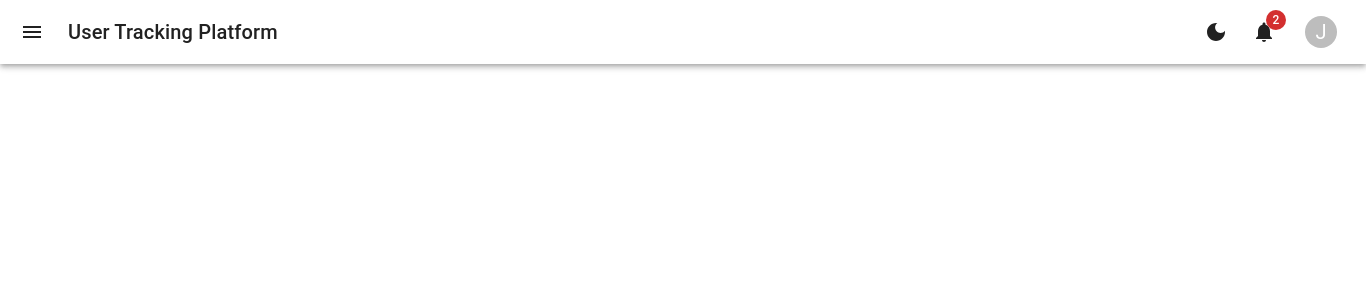
Header › profile menu › should open profile menu when clicking avatar
This screenshot has width=1366, height=297.
Click the button "J" at (1321, 32), box top-left (1300, 11), bottom-right (1342, 53)
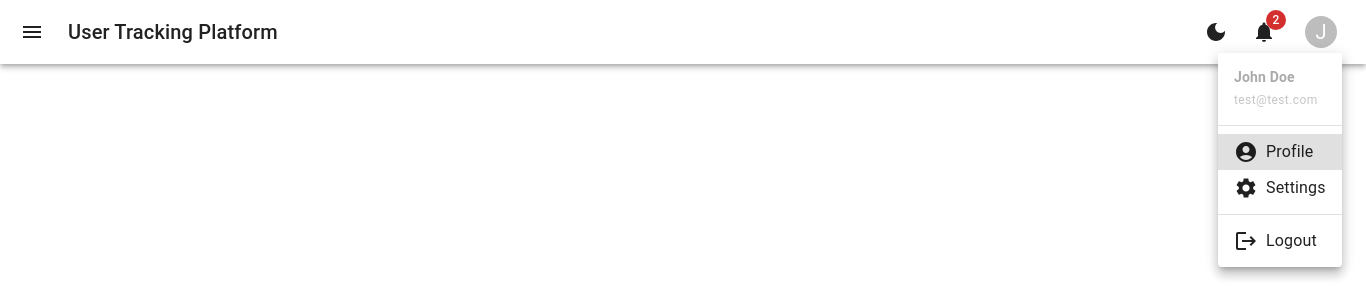
Expected: the text "John Doe" is shown, top-left (1234, 69), bottom-right (1295, 85)
Expected: the text "test@test.com" is shown, top-left (1234, 93), bottom-right (1318, 107)
